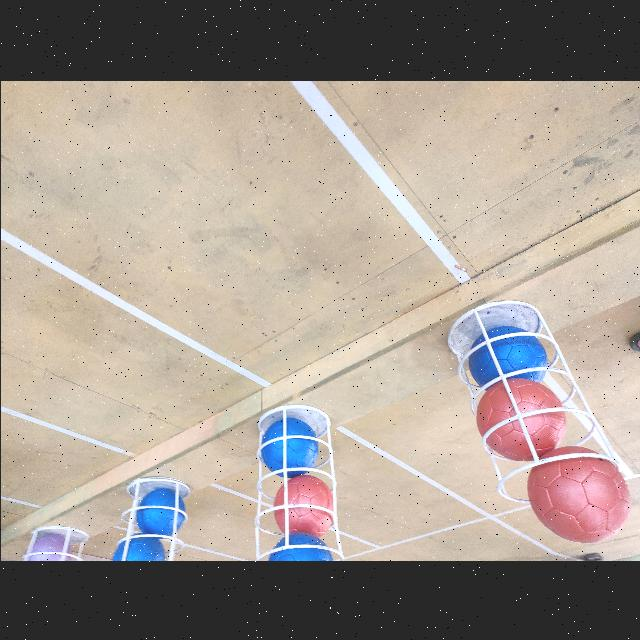B: (468, 325, 548, 397), (256, 418, 320, 477), (133, 486, 185, 536), (266, 534, 334, 560), (109, 532, 165, 560)
R: (526, 444, 628, 544), (476, 376, 566, 460), (272, 476, 336, 536)
